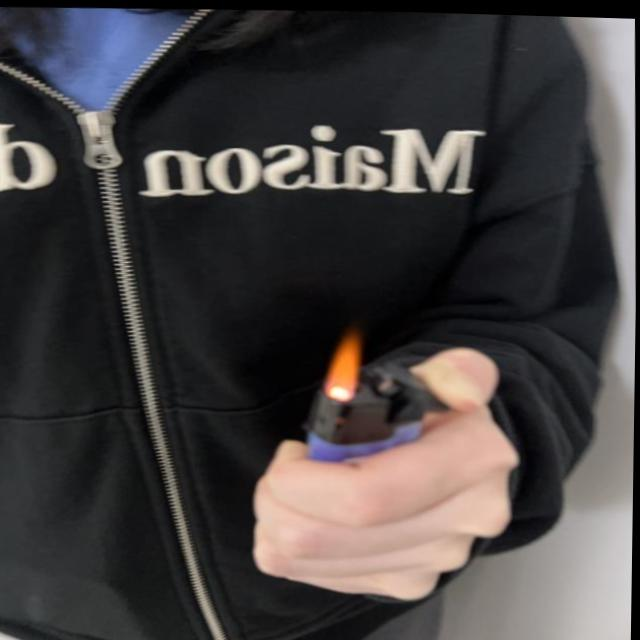Fire: (321, 322, 367, 398)
